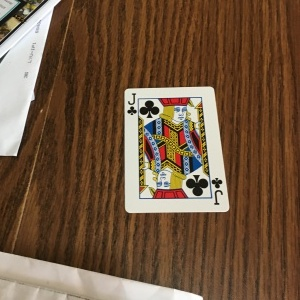card: (123, 85, 232, 215)
